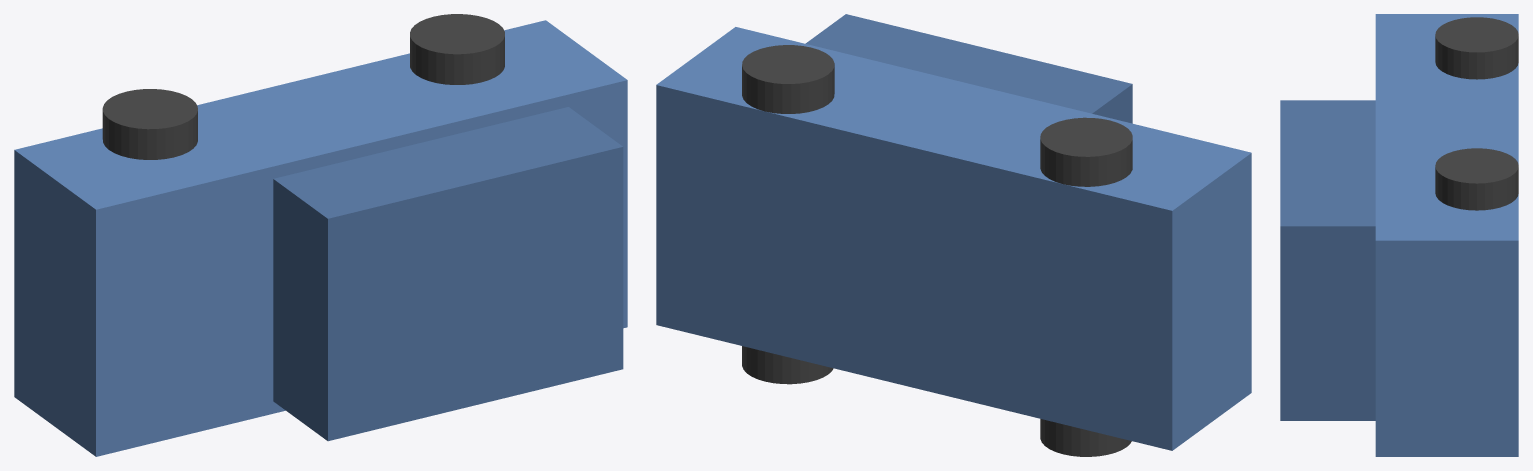
File: vehicle.glb
The picture shows the model from 3 angles, left to right: view 1: azimuth 30°, elevation 25°; view 2: azimuth 150°, elevation 25°; view 3: azimuth 270°, elevation 25°; orthographic projection. The views are drawn at different scales.
Parts seen in each view (by area): view 1: world; view 2: world; view 3: world.
Part boxes in pixels (x1,y1,x2,y2): world: (14, 14, 627, 456); world: (656, 14, 1251, 456); world: (1280, 14, 1518, 456).
Size of the model in its own units: 4.5 by 2.5 by 2.
